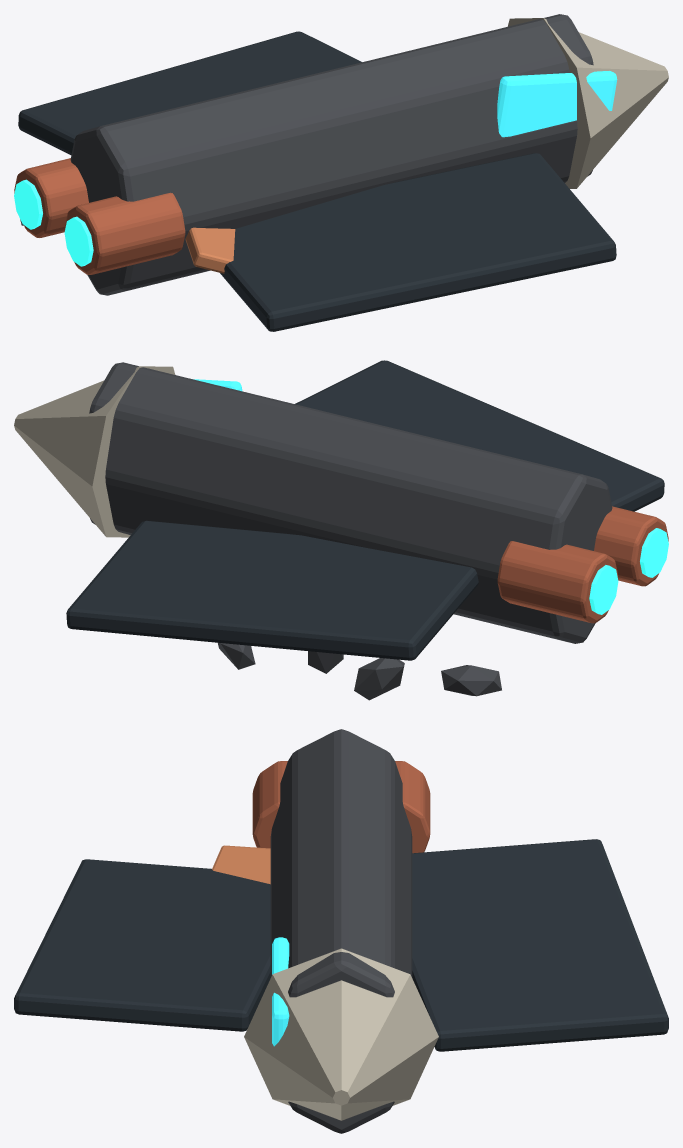
The model's file is wrecked-shuttle.glb.
3 renders of one model, top to bottom at view 1: azimuth 30°, elevation 25°; view 2: azimuth 150°, elevation 25°; view 3: azimuth 270°, elevation 25°, orthographic. The views are drawn at different scales.
Parts seen in each view (by area): view 1: wrecked-shuttle; view 2: wrecked-shuttle; view 3: wrecked-shuttle.
Part boxes in pixels (left/top/right/bottom): wrecked-shuttle: left=14, top=14, right=668, bottom=331; wrecked-shuttle: left=14, top=360, right=668, bottom=700; wrecked-shuttle: left=14, top=729, right=668, bottom=1133.
Size of the model in its own units: 10.09 by 2.83 by 9.07.
